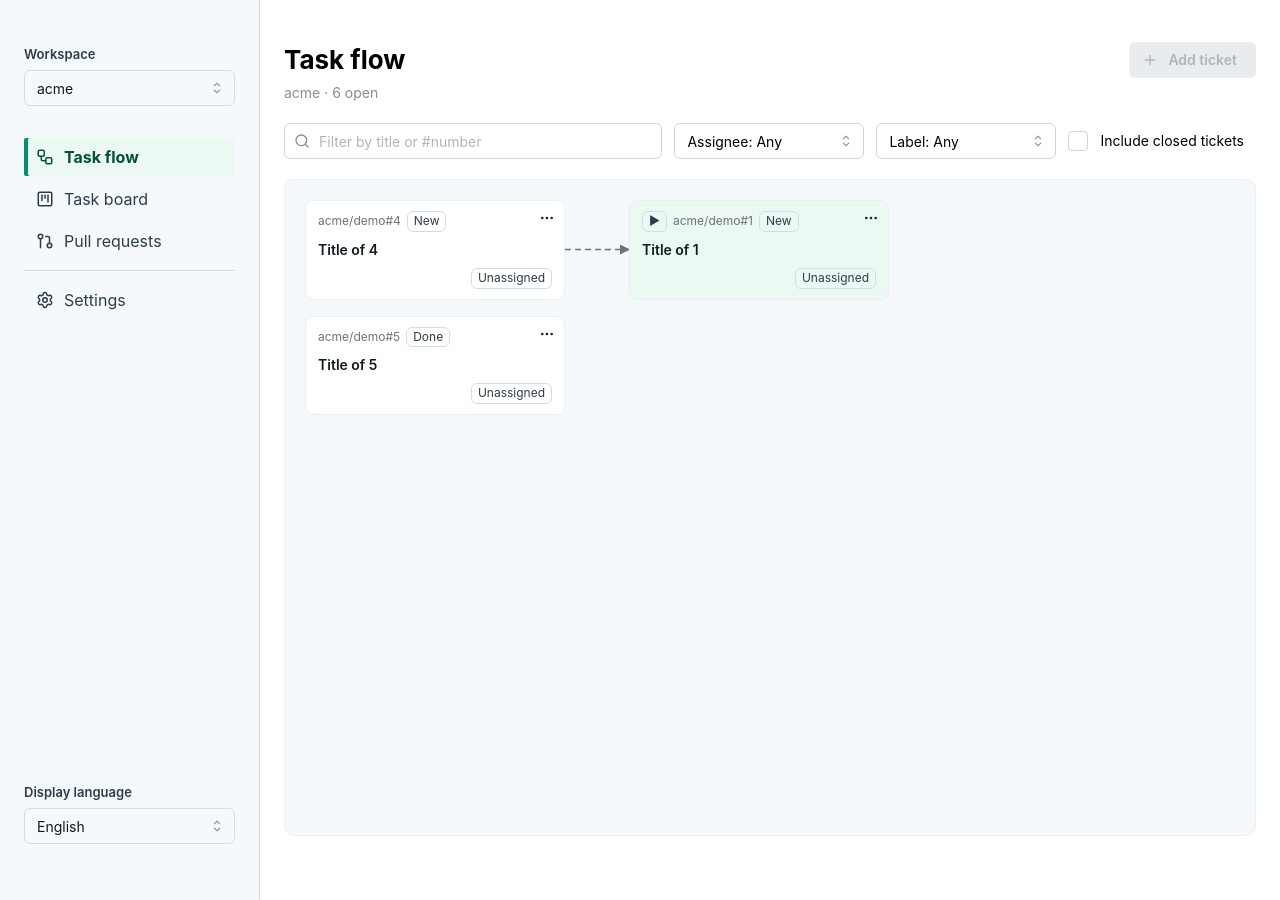
Test case: relations › reveals a matching grandchild, permits folding, and restores saved expansion (false)
Type "Title of 6" into the field named "Text" at (473, 141), box [284,123,662,159]
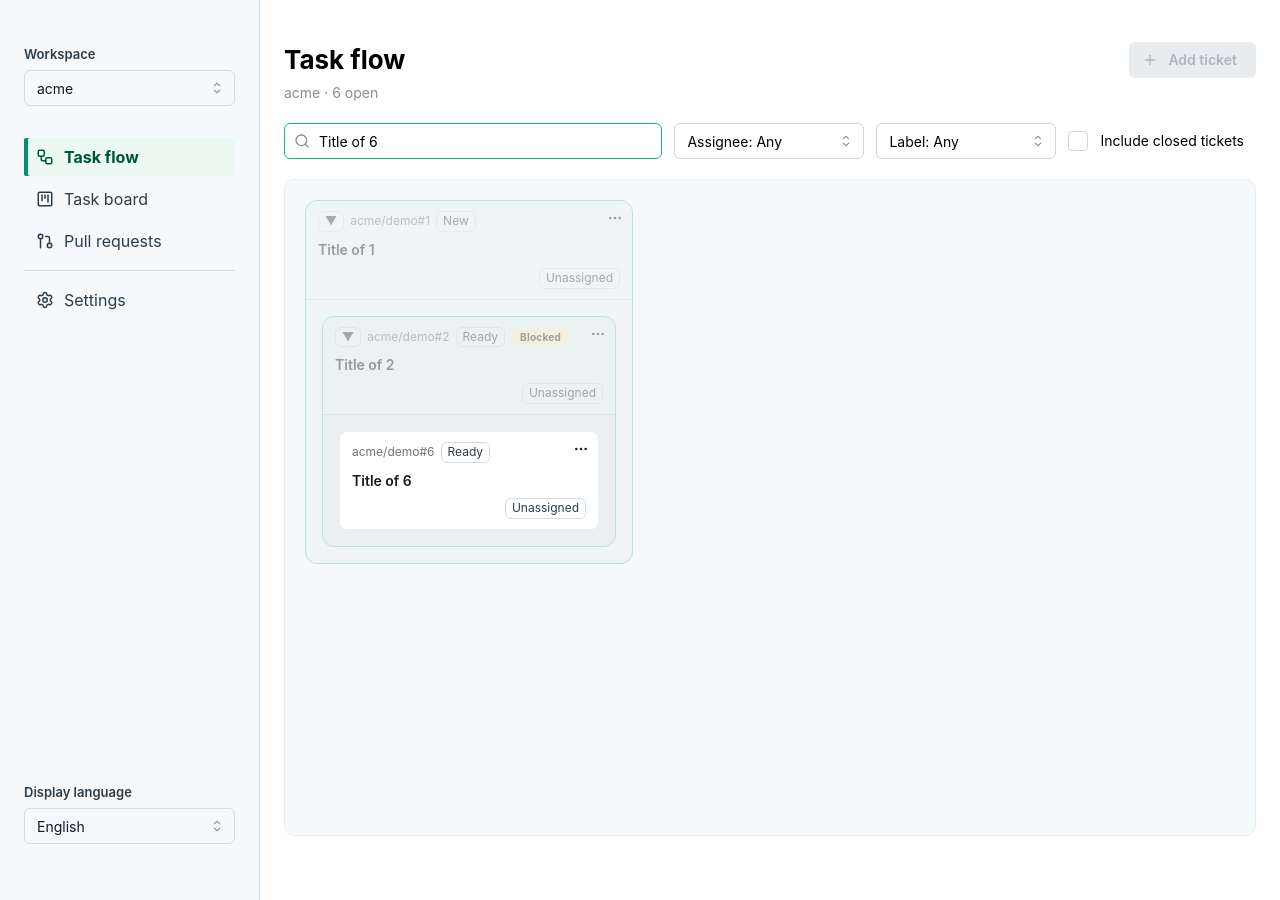
Result: the element "▼ acme/demo#1 New Title of 1 Unassigned" has class "dim" at [306,201,632,300]
Result: the element "▼ acme/demo#2 Ready Blocked Title of 2 Unassigned" has class "dim" at [323,317,615,415]
Click the button named "Close child tickets" at (348, 337), box [335,327,361,347]
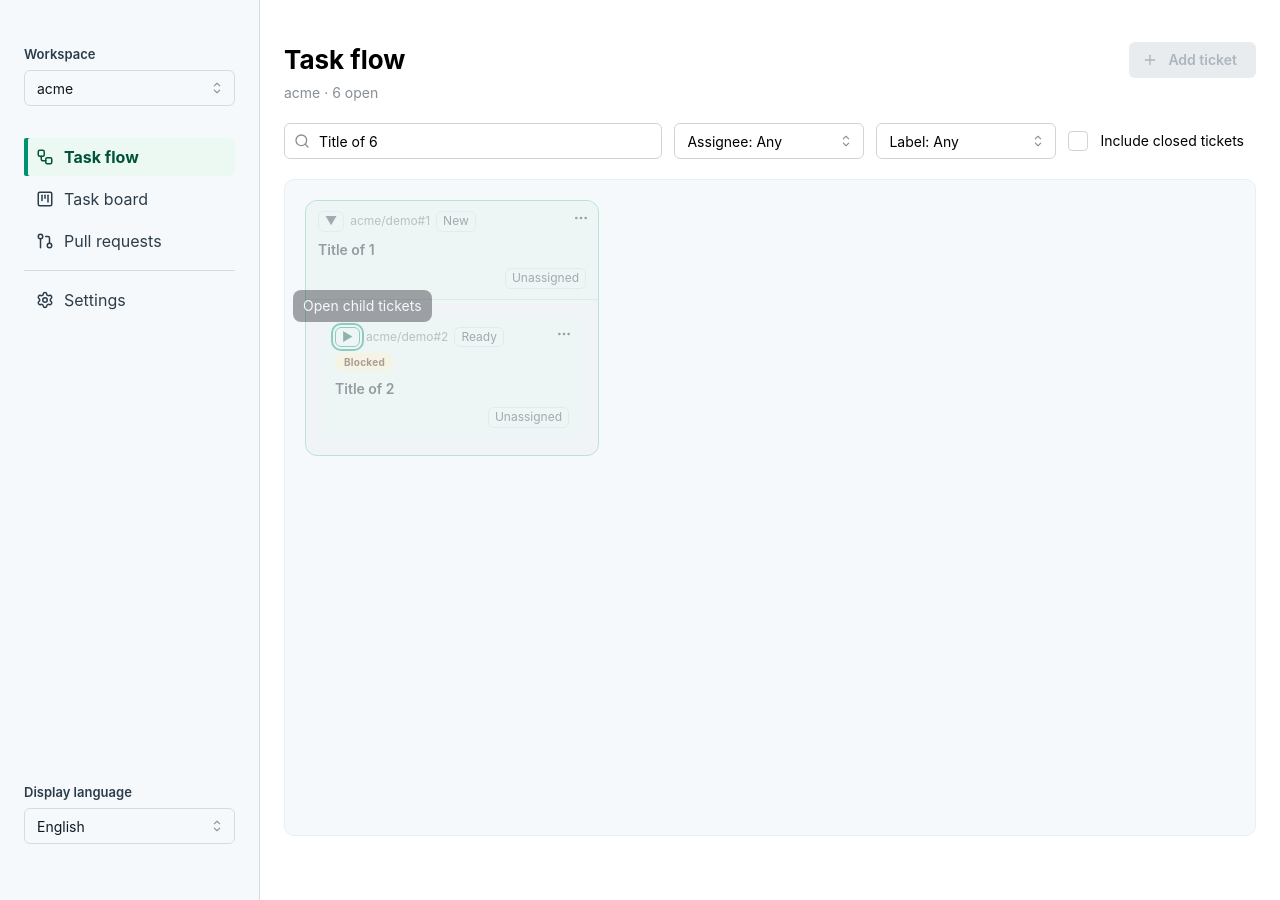
Result: the link "acme/demo#6 " is gone
Click the button named "Open child tickets" at (348, 337), box [335,327,360,347]
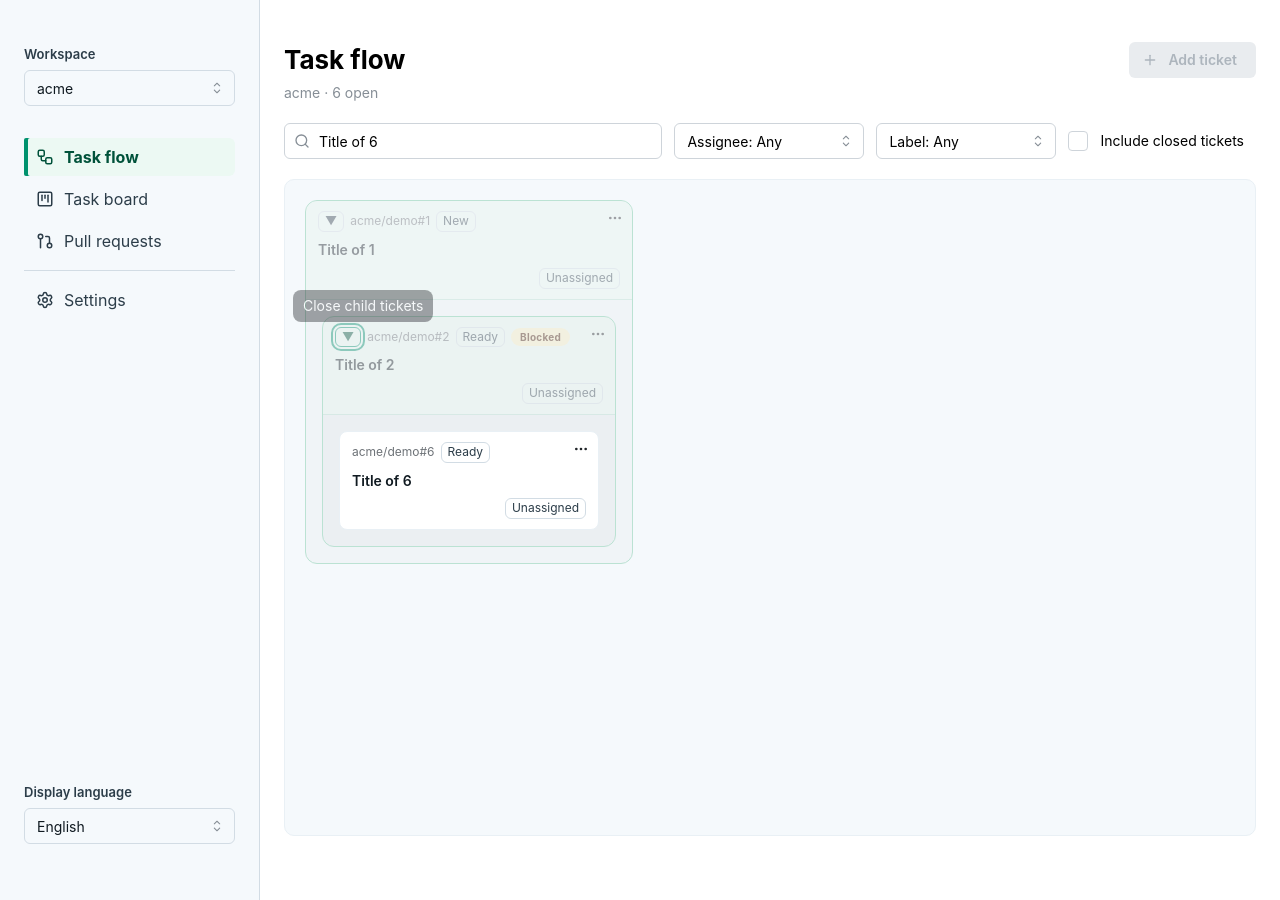
Result: the element "acme/demo#6 Ready Title of 6 Unassigned" is shown at [339,431,599,530]
Clear the field named "Text" at (473, 141), box [284,123,662,159]
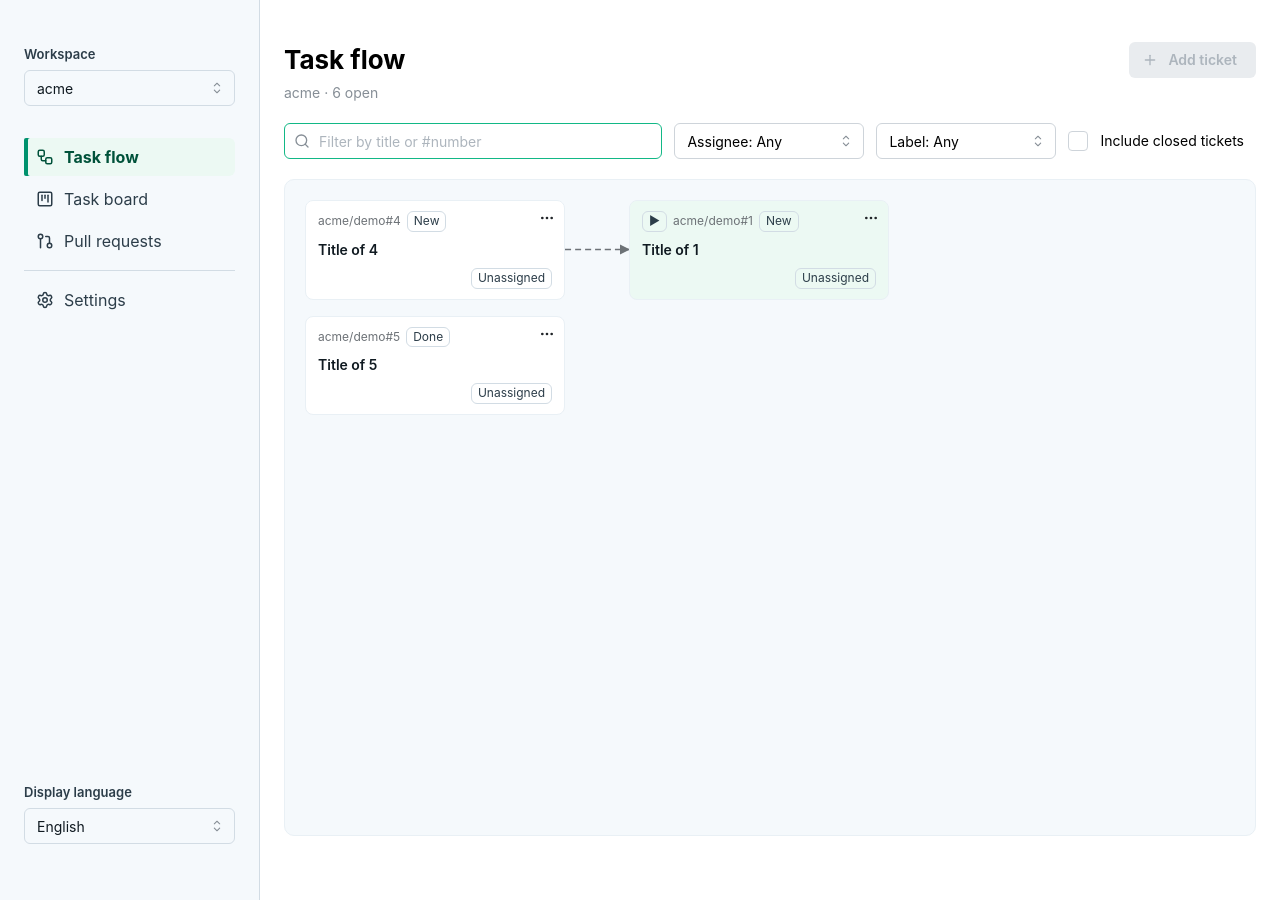
Result: the button "▶" is shown at [642,211,667,232]
Result: the link "acme/demo#6 " is gone
